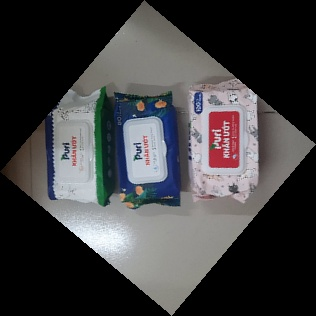Puri Trang: (44, 86, 115, 207)
Puri Xanh: (110, 91, 181, 211)
Puri hong: (187, 78, 265, 204)
